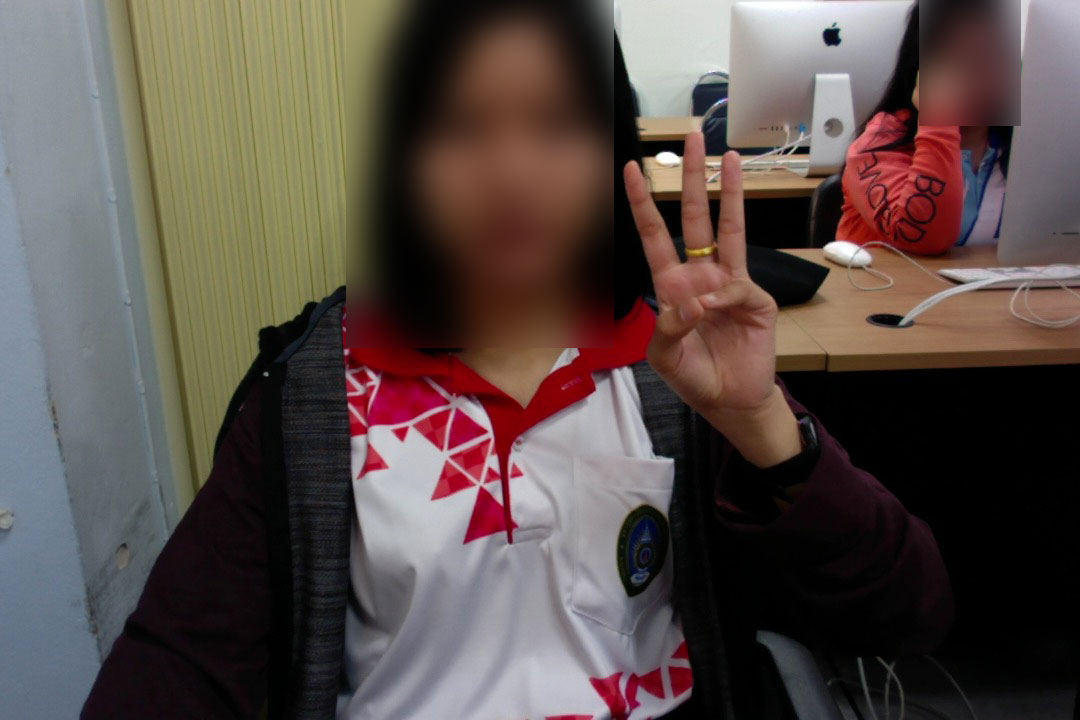wor: (610, 134, 793, 418)
